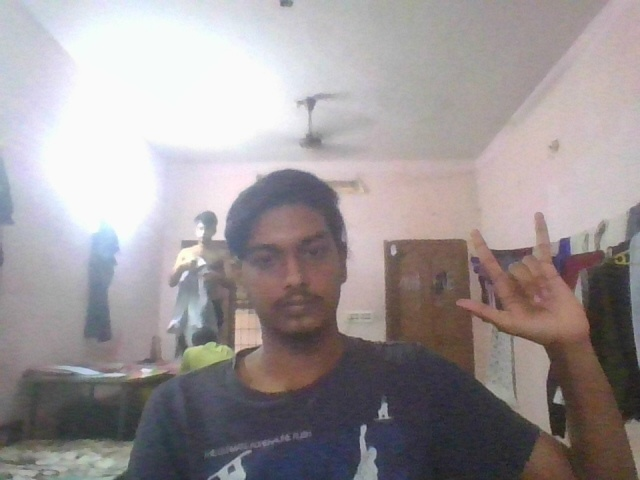iloveyou: (450, 208, 593, 353)
